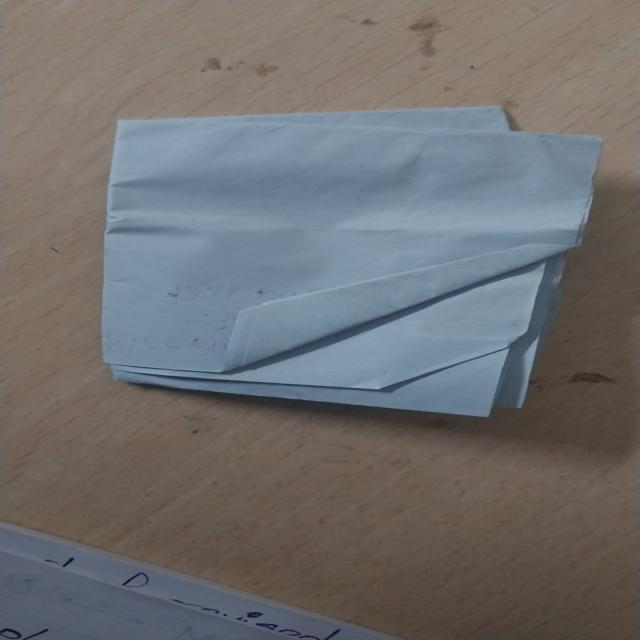Paper - Recyclable: (100, 105, 604, 418)
